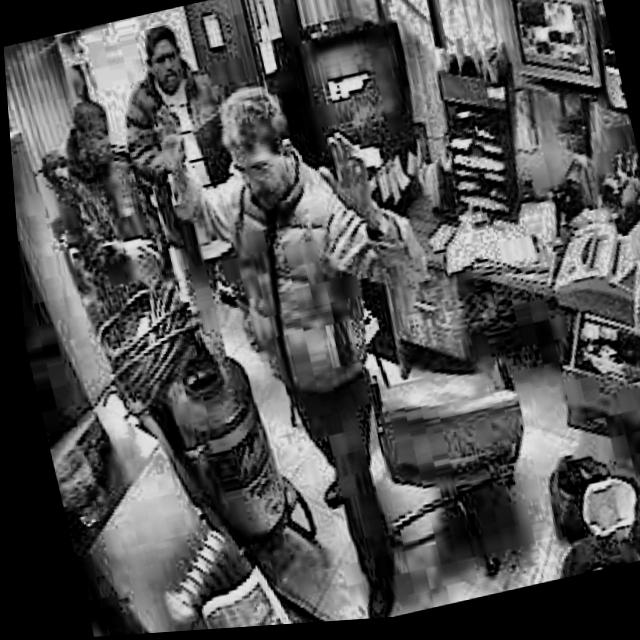robbery: (141, 54, 437, 348)
